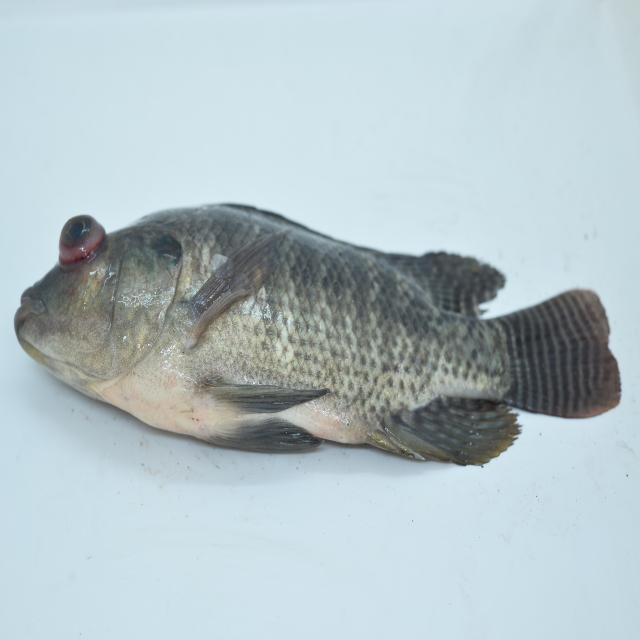streptococcus Disease: (13, 204, 624, 468)
